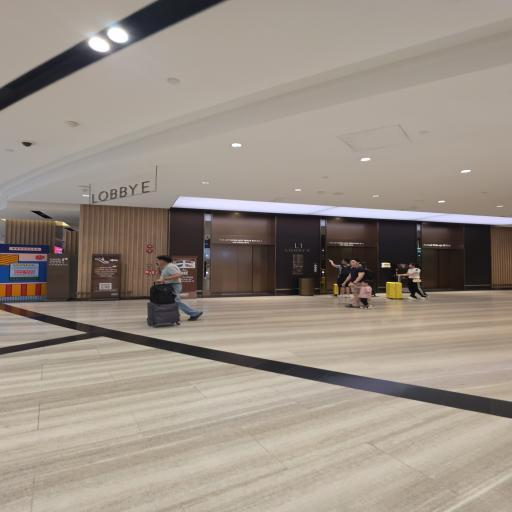person_left: (346, 258, 366, 306), (357, 280, 375, 306)
person_with_luggage_left: (124, 240, 210, 326), (382, 263, 428, 300)
